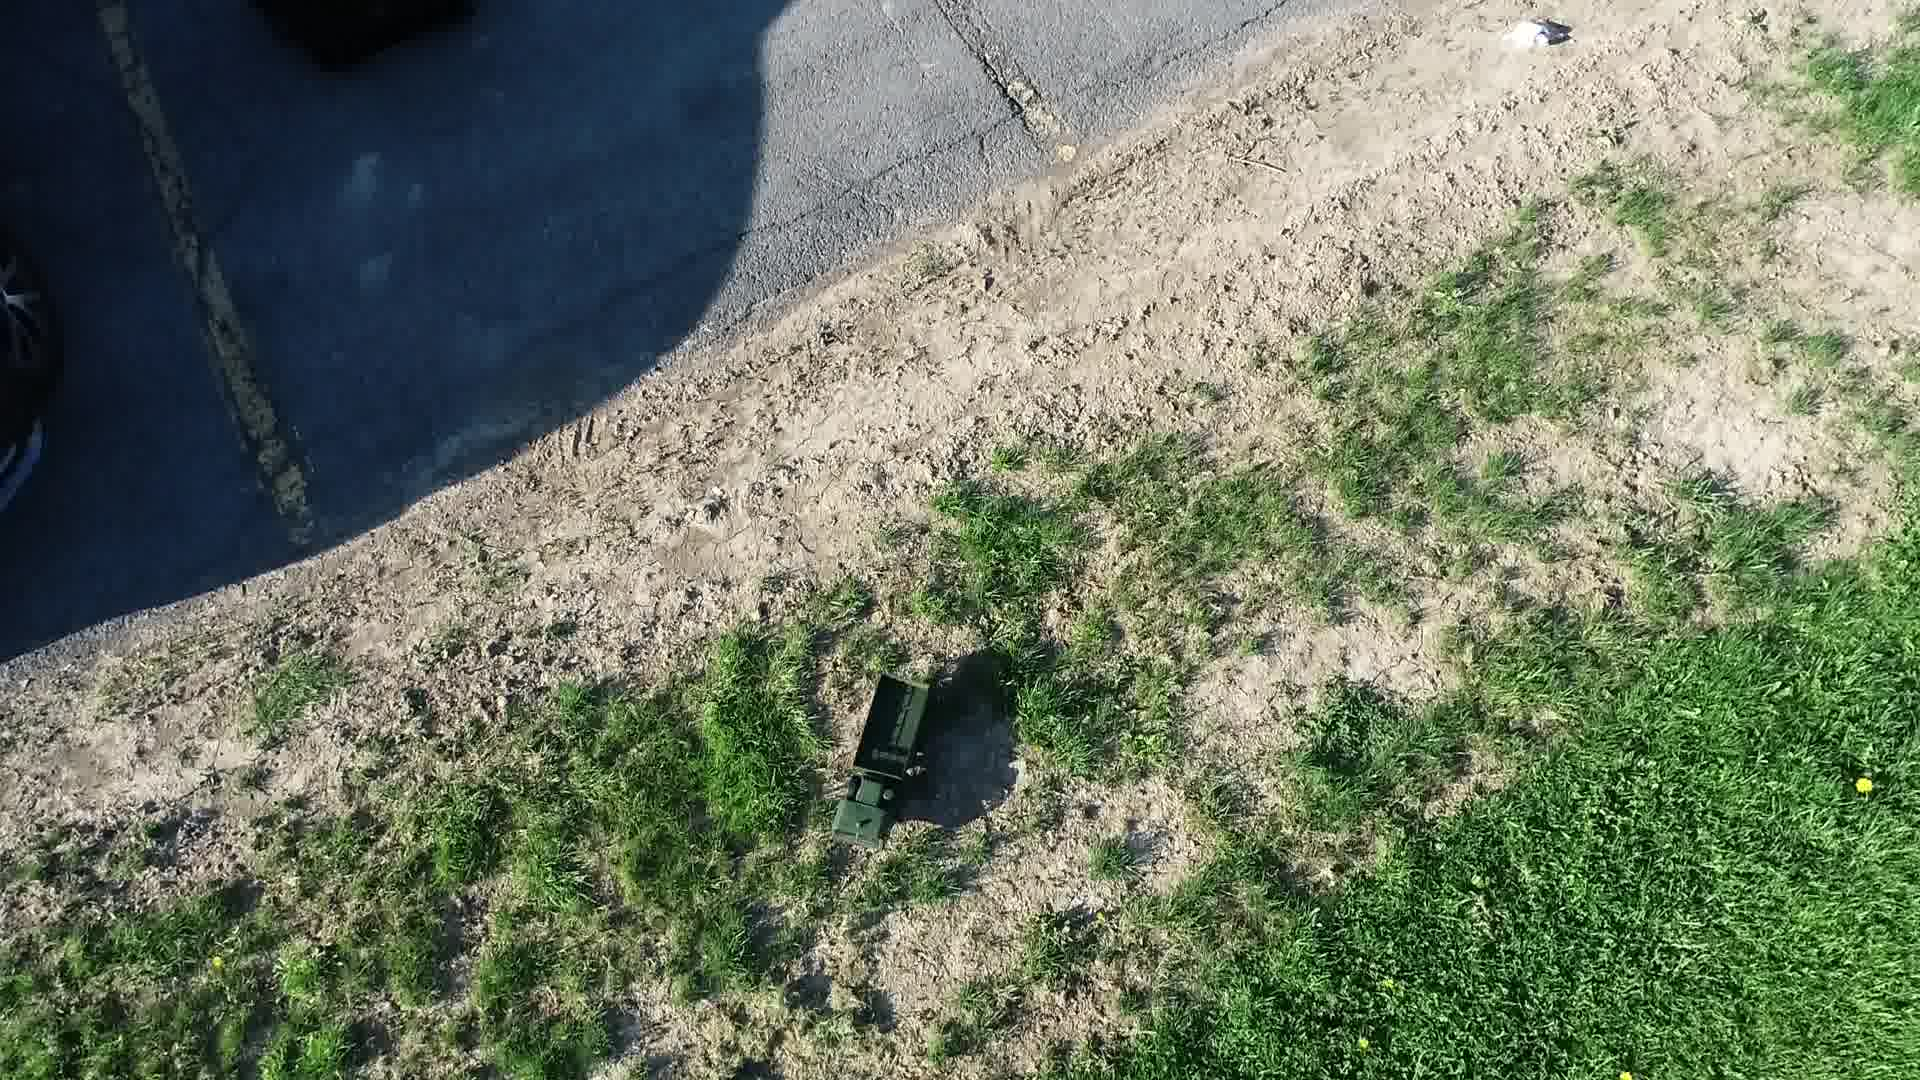transporter9: (818, 665, 942, 856)
